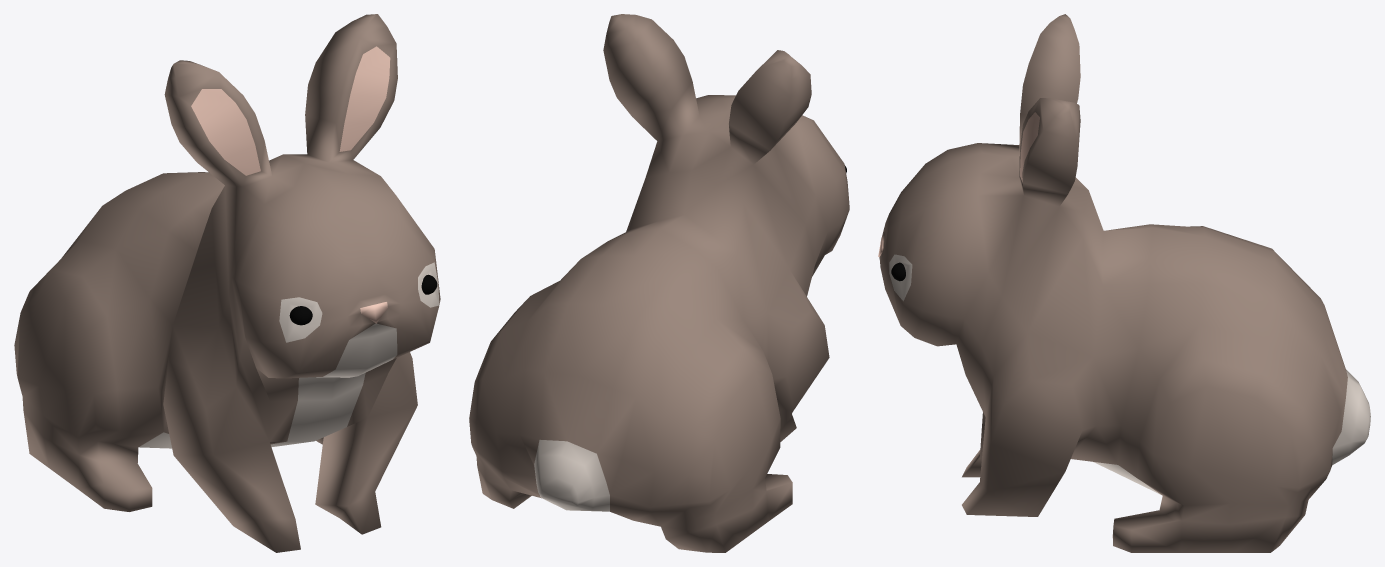
File: Bunny_Textured.fbx
3 renders of one model, left to right at view 1: azimuth 30°, elevation 25°; view 2: azimuth 150°, elevation 25°; view 3: azimuth 270°, elevation 25°, orthographic. The views are drawn at different scales.
Visible parts, largest first — view 1: Plane; view 2: Plane; view 3: Plane.
Part boxes in pixels (box(x1,y1,x2,y2)): Plane: box(14, 14, 440, 552); Plane: box(469, 14, 849, 552); Plane: box(878, 14, 1370, 552).
Size of the model in its own units: 85.36 by 131 by 135.
